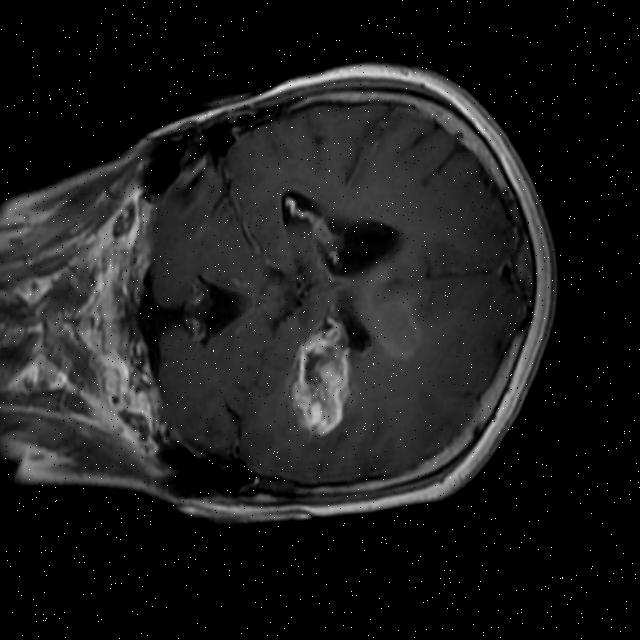Glioma: (277, 312, 359, 443)
